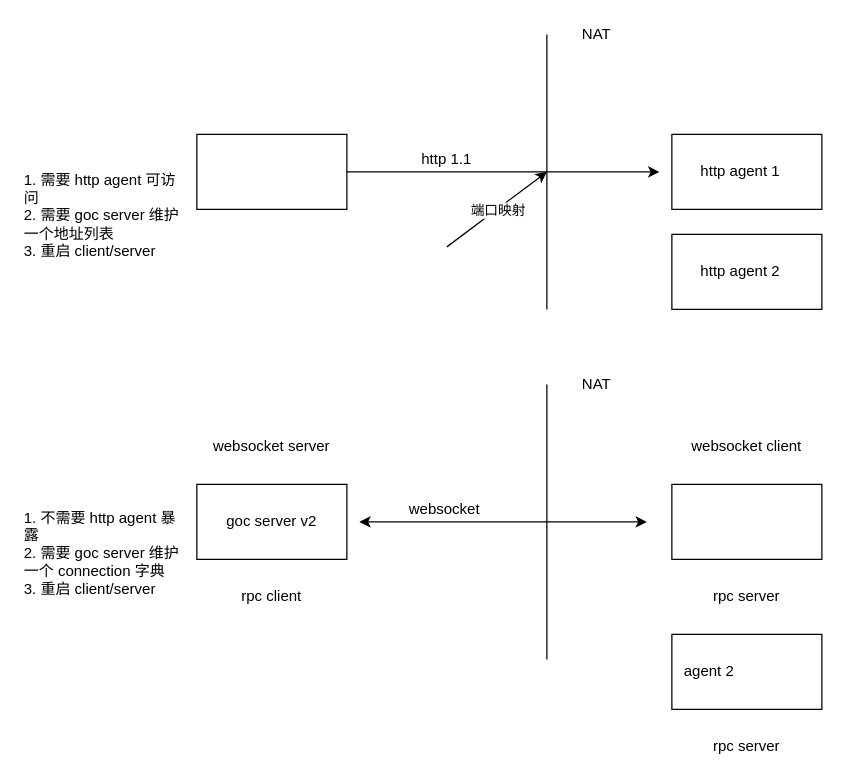
Some shapes in this 844 by 780 pixel diagram are drawn without their labels. Each missing label, with the centre of its shape:
"agent 1" belongs at point (746, 521).
"goc server v1" belongs at point (271, 171).
